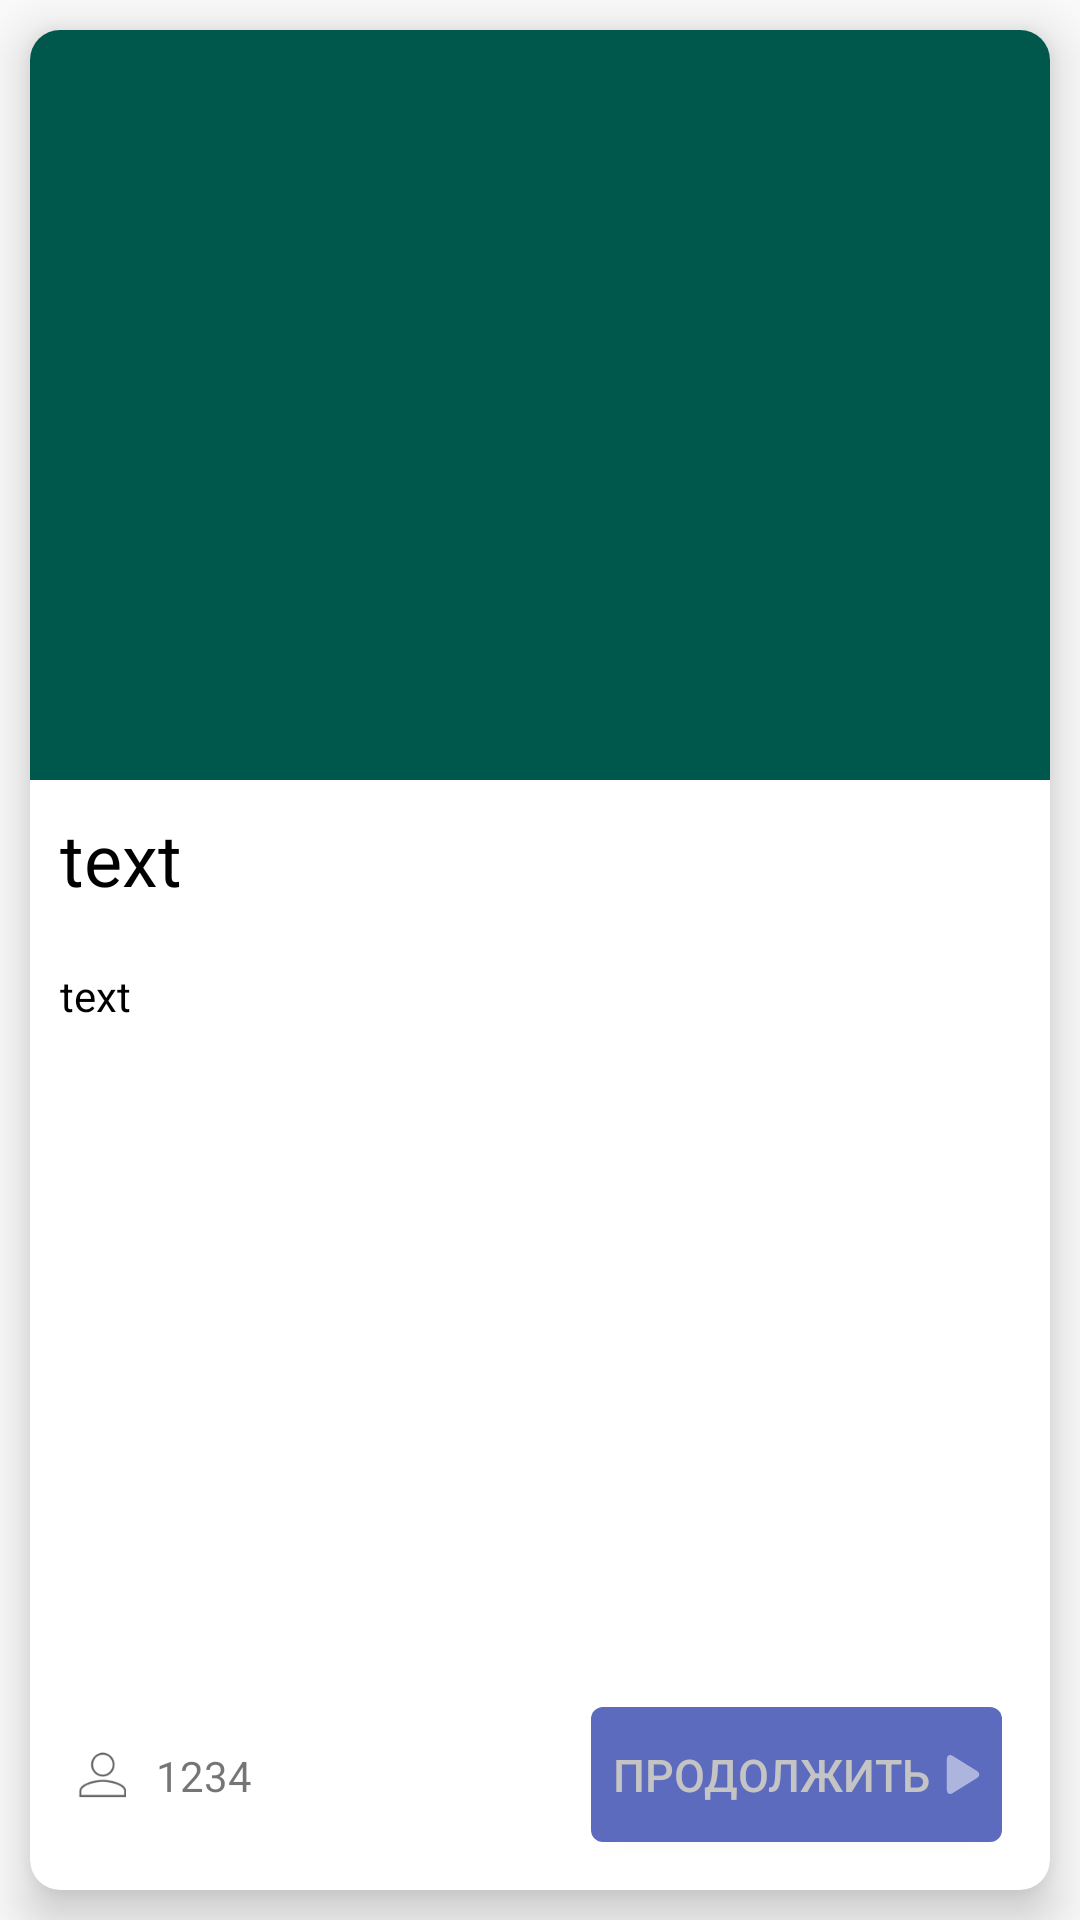

Icons on this 1080px×1920px Android screen, each with the point to tap as (x=x, y=y):
chel: (x=102, y=1774)
